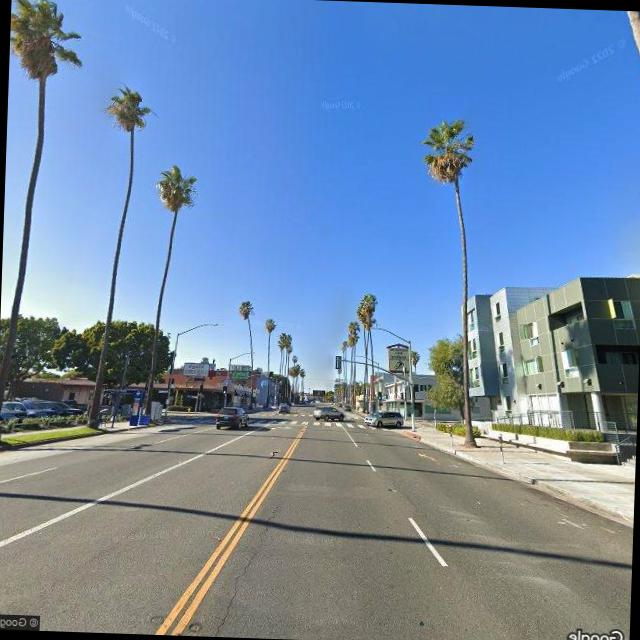crack: (208, 502, 282, 638)
